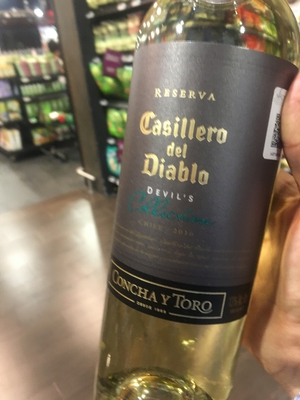casillero del diablo devils collection verde: (114, 10, 293, 400)
